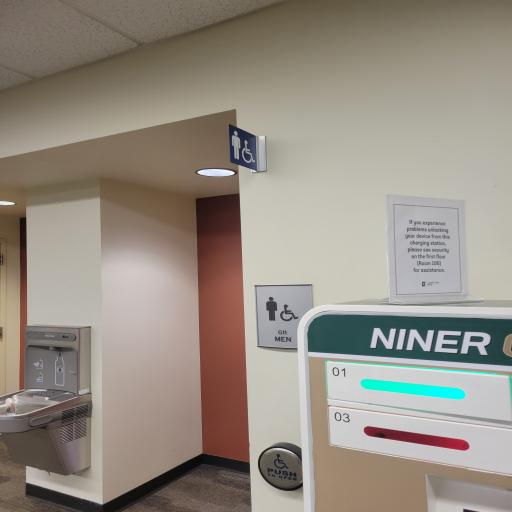charging station: (297, 301, 512, 512)
handicap push button: (251, 436, 307, 490)
men bathroom sign: (253, 282, 313, 349), (224, 121, 269, 176)
water fountain: (3, 323, 94, 474)
